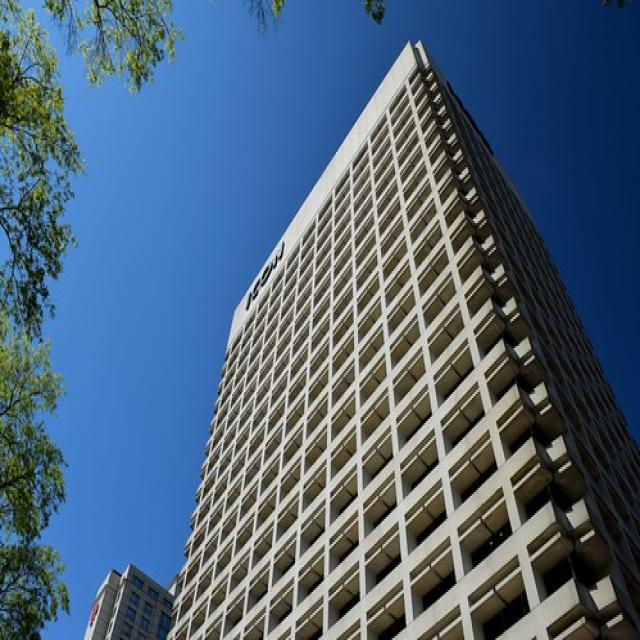Normal_building: (173, 27, 640, 640)
